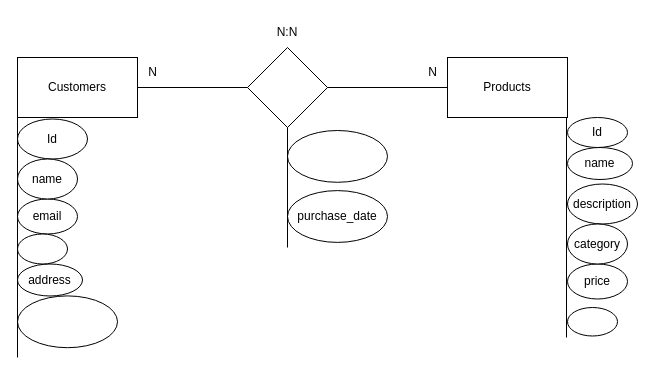
This 655x376 diagram has some shape labels left out. The shapes that lost their labels are listed below. From the top down, each one's box as (x1, y1, x2, y2) in pixels, then its label:
(246, 46, 328, 128): Purchase
(286, 130, 388, 182): quantity
(16, 233, 68, 264): phone
(16, 295, 118, 348): registration_date
(566, 306, 618, 336): stock
